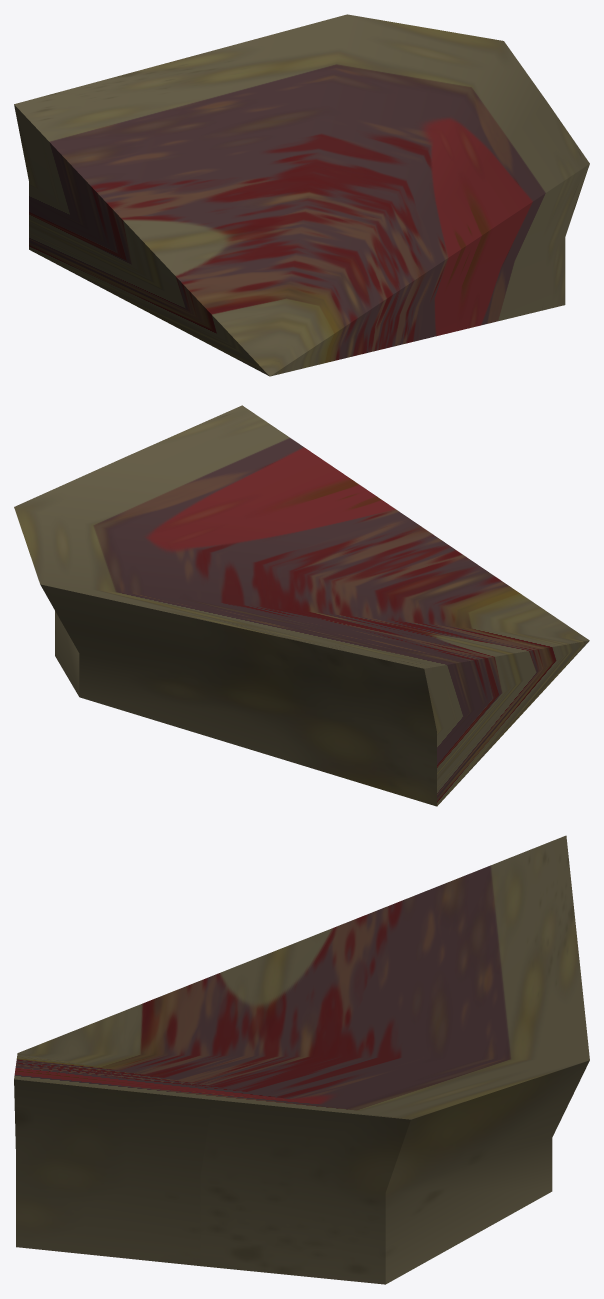
Rendered from ishi_02_7_5.fbx.
3 views of the same model, one above another, from view 1: azimuth 30°, elevation 25°; view 2: azimuth 150°, elevation 25°; view 3: azimuth 270°, elevation 25° (orthographic). The views are drawn at different scales.
Parts seen in each view (by area): view 1: polySurface25; view 2: polySurface25; view 3: polySurface25.
Part boxes in pixels (box(x1,y1,x2,y2)): polySurface25: box(14, 14, 589, 376); polySurface25: box(14, 405, 589, 806); polySurface25: box(14, 835, 589, 1284).
Size of the model in its own units: 8.54 by 2.57 by 7.31.
Materials: 1 (1 with a texture image).
